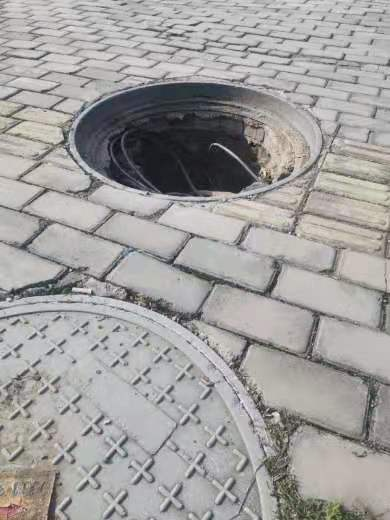lose: (3, 293, 287, 520), (68, 78, 324, 203)
